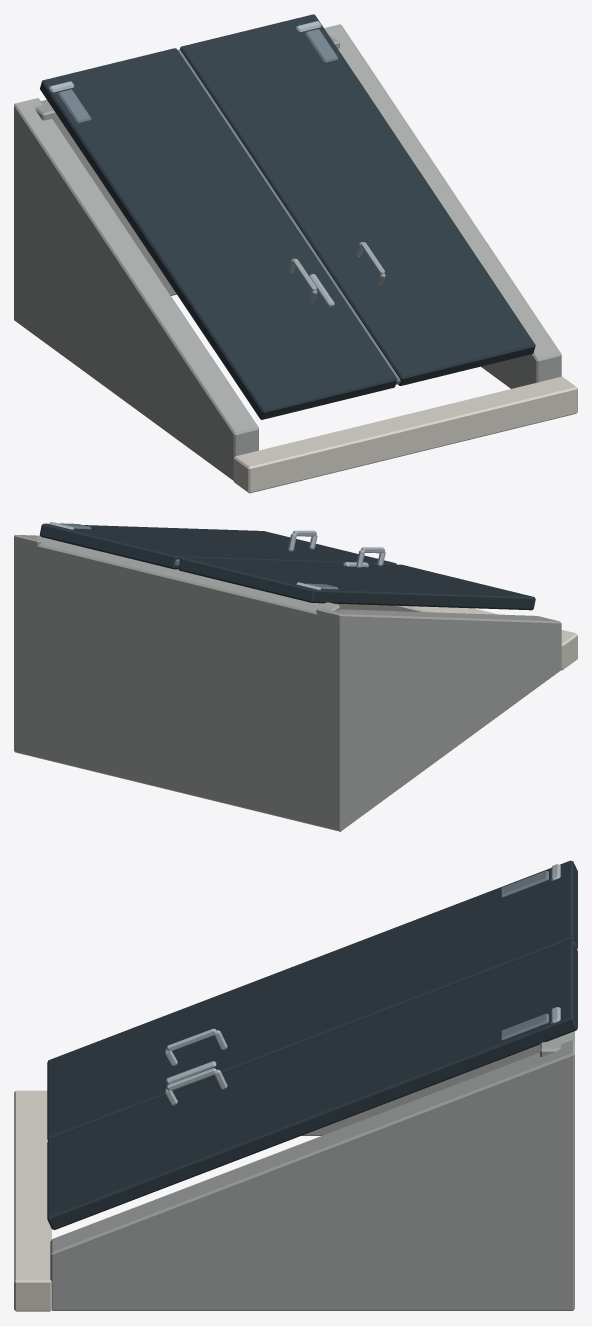
The model's file is b12_sloped_cellar_bulkhead.glb.
3 views of the same model, one above another, from view 1: azimuth 30°, elevation 25°; view 2: azimuth 150°, elevation 25°; view 3: azimuth 270°, elevation 25° (orthographic). The views are drawn at different scales.
Visible parts, largest first — view 1: b12_sloped_cellar_bulkhead; view 2: b12_sloped_cellar_bulkhead; view 3: b12_sloped_cellar_bulkhead.
Part boxes in pixels (x1,y1,x2,y2): b12_sloped_cellar_bulkhead: [14, 14, 577, 493]; b12_sloped_cellar_bulkhead: [14, 522, 577, 831]; b12_sloped_cellar_bulkhead: [14, 860, 577, 1311].
Bounding box in the file's own units: 1.55 × 1.05 × 1.94.
